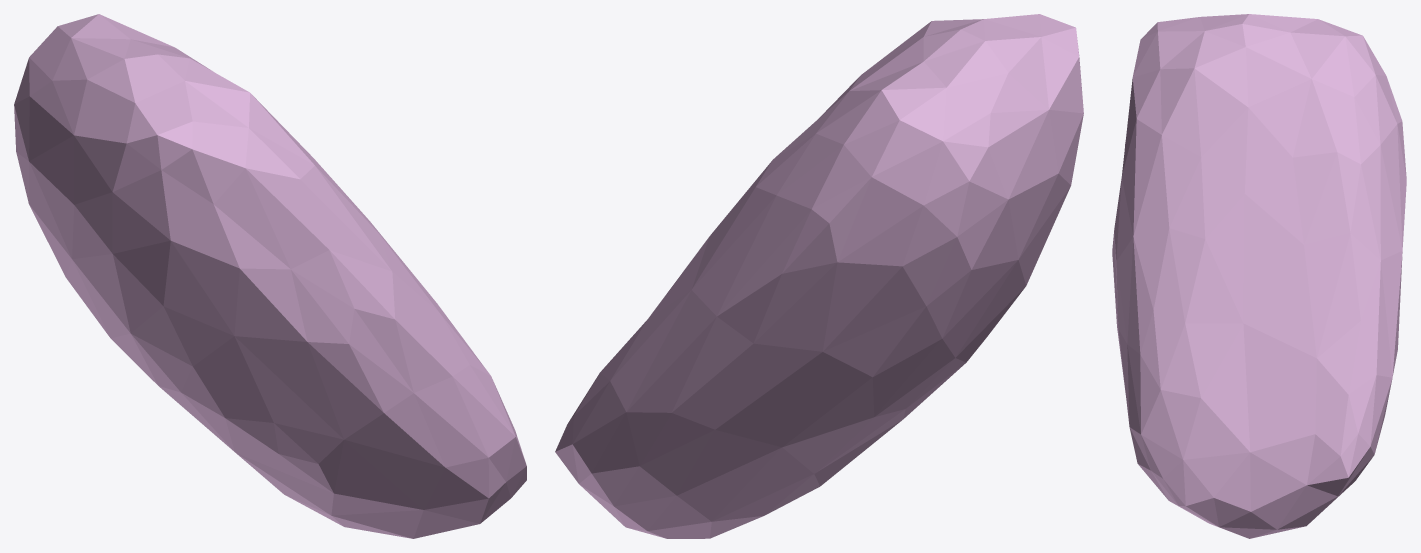
3 views of the same model, side by side, from view 1: azimuth 30°, elevation 25°; view 2: azimuth 150°, elevation 25°; view 3: azimuth 270°, elevation 25° (orthographic). The views are drawn at different scales.
Parts seen in each view (by area): view 1: 591.obj; view 2: 591.obj; view 3: 591.obj.
Boxes of the visible parts, box(x1,y1,x2,y2) form: 591.obj: box(14, 14, 526, 538); 591.obj: box(555, 14, 1083, 538); 591.obj: box(1112, 14, 1406, 538).
Bounding box in the file's own units: 544 × 669 × 434.
